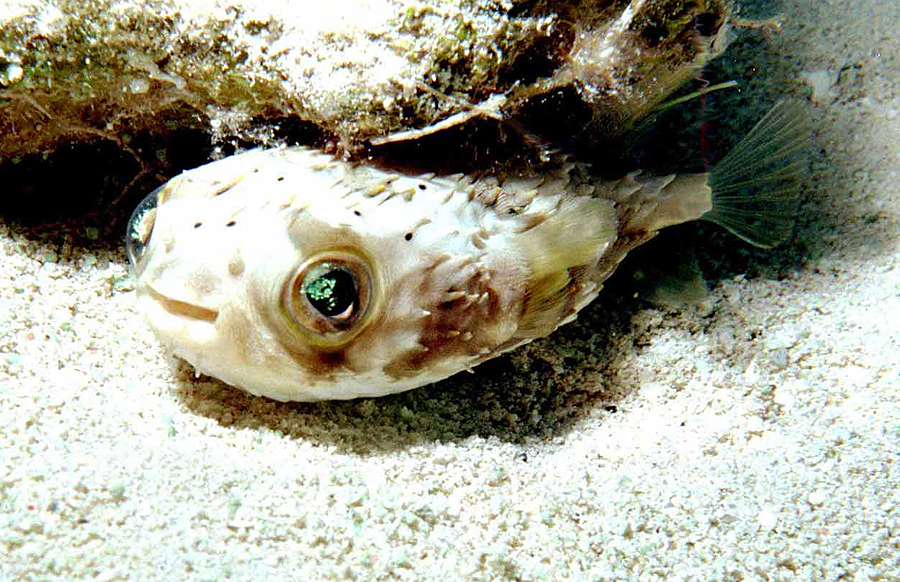Diodon_holocanthus: (103, 100, 720, 428)
